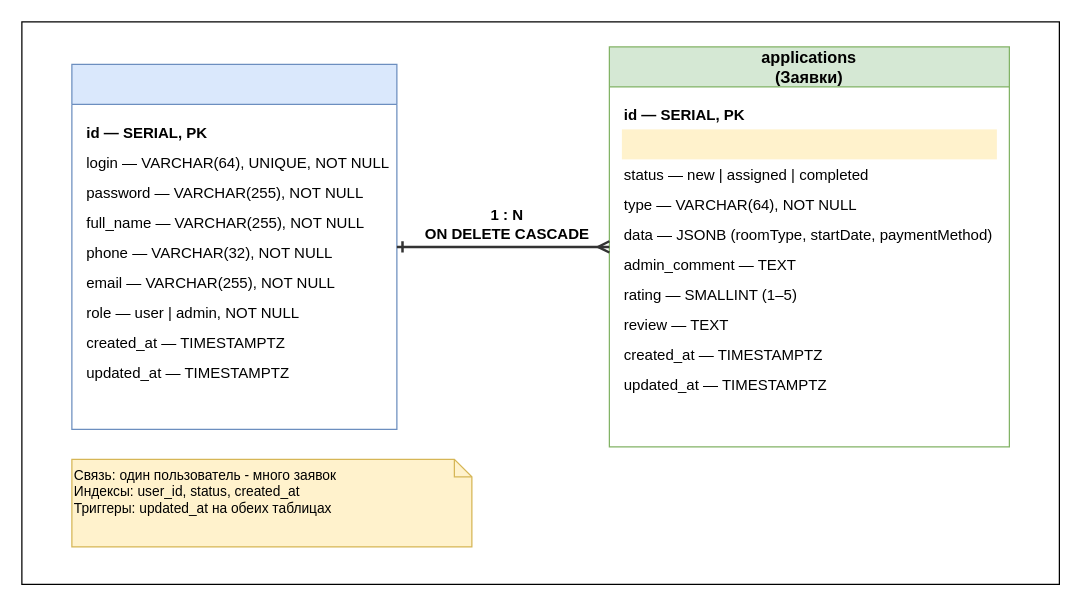
This 1081x606 diagram has some shape labels left out. The shapes that lost their labels are listed below. From the top down, each one's box as (x1, y1, x2, y2) in pixels, then its label:
(621, 129, 996, 159): user_id — INTEGER, FK → users.id, NOT NULL
(71, 63, 397, 429): users (Пользователи)
